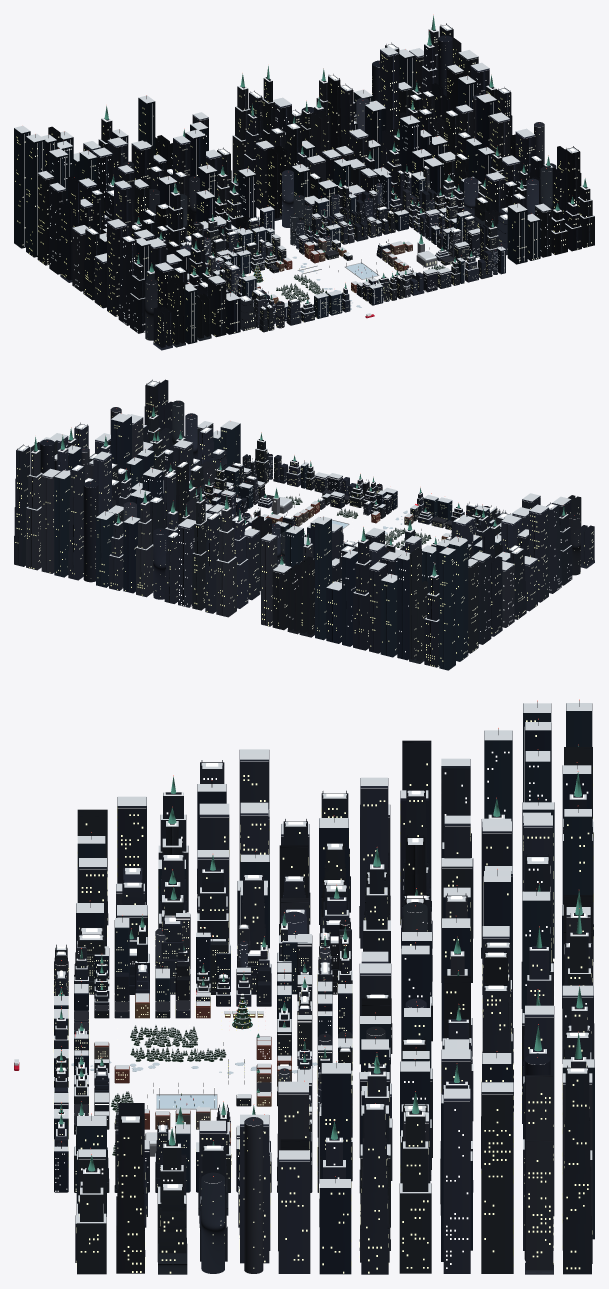
The model's file is by_nordlys.glb.
3 renders of one model, top to bottom at view 1: azimuth 30°, elevation 25°; view 2: azimuth 150°, elevation 25°; view 3: azimuth 270°, elevation 25°, orthographic. The views are drawn at different scales.
Visible parts, largest first — view 1: Skyline_net, Bykerne_net, Parker_net; view 2: Skyline_net, Bykerne_net, Parker_net; view 3: Skyline_net, Bykerne_net, Parker_net, Skøjtebanen_net.
Part boxes in pixels (box(x1,y1,x2,y2)): Skyline_net: box(14, 14, 594, 350); Bykerne_net: box(179, 164, 505, 332); Parker_net: box(276, 264, 445, 302); Skyline_net: box(14, 379, 594, 670); Bykerne_net: box(189, 432, 506, 552); Parker_net: box(284, 495, 431, 547); Skyline_net: box(75, 699, 594, 1274); Bykerne_net: box(53, 912, 352, 1192); Parker_net: box(111, 1025, 226, 1155); Skøjtebanen_net: box(156, 1087, 217, 1109).
Size of the model in its own units: 181 by 52.04 by 120.
